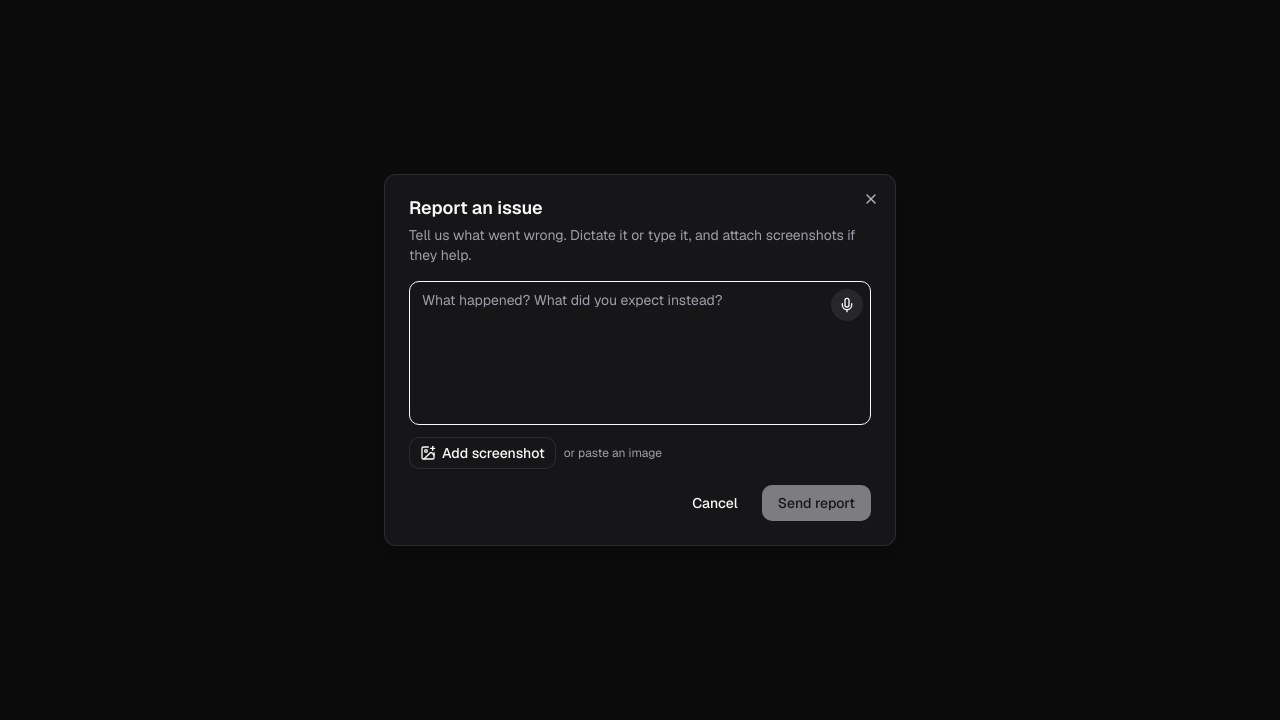
Test: ProblemReportDialog › keeps submit disabled until the problem is described
Expected: the button with test id "problem-report-submit" is disabled, [762,485,871,521]
Type "Chat is blank" into the text box with test id "problem-report-description" at (640, 353), box [409,281,871,425]
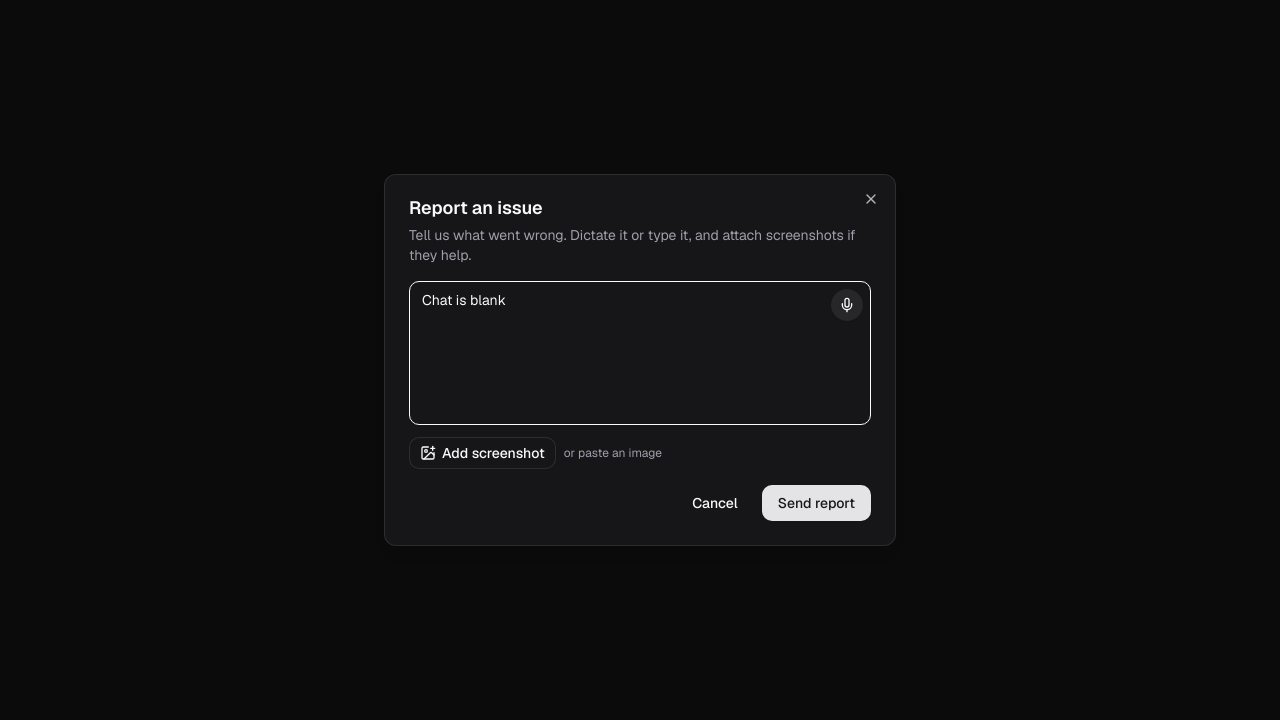
Now the button with test id "problem-report-submit" is enabled, box [762,485,871,521]
